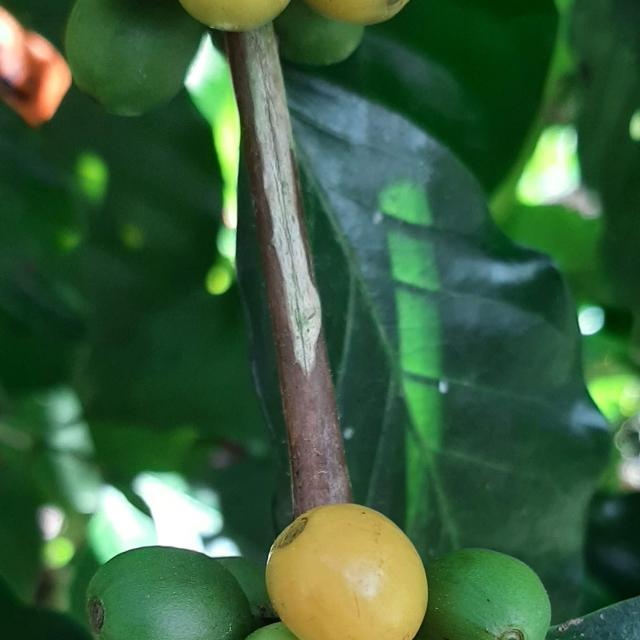green: (64, 0, 205, 115), (86, 547, 252, 640), (415, 550, 552, 640), (274, 0, 364, 65)
red: (266, 504, 428, 640)
yellow: (179, 0, 290, 31), (305, 0, 409, 24)
